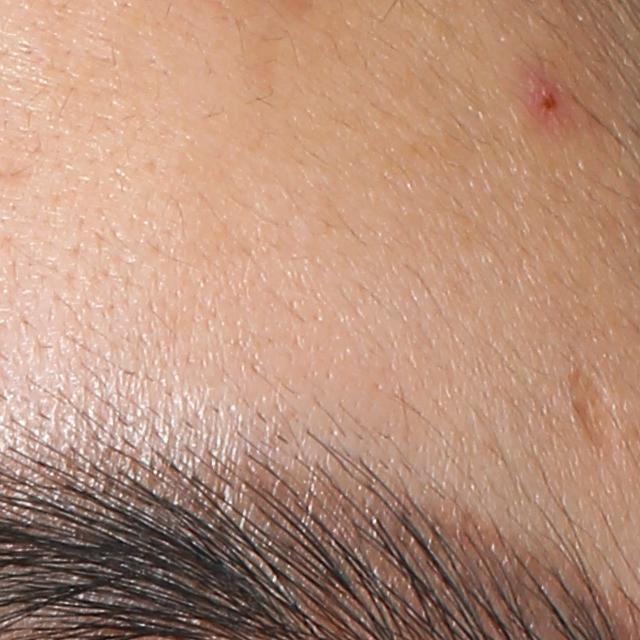atrophic_scar: (560, 360, 626, 455)
